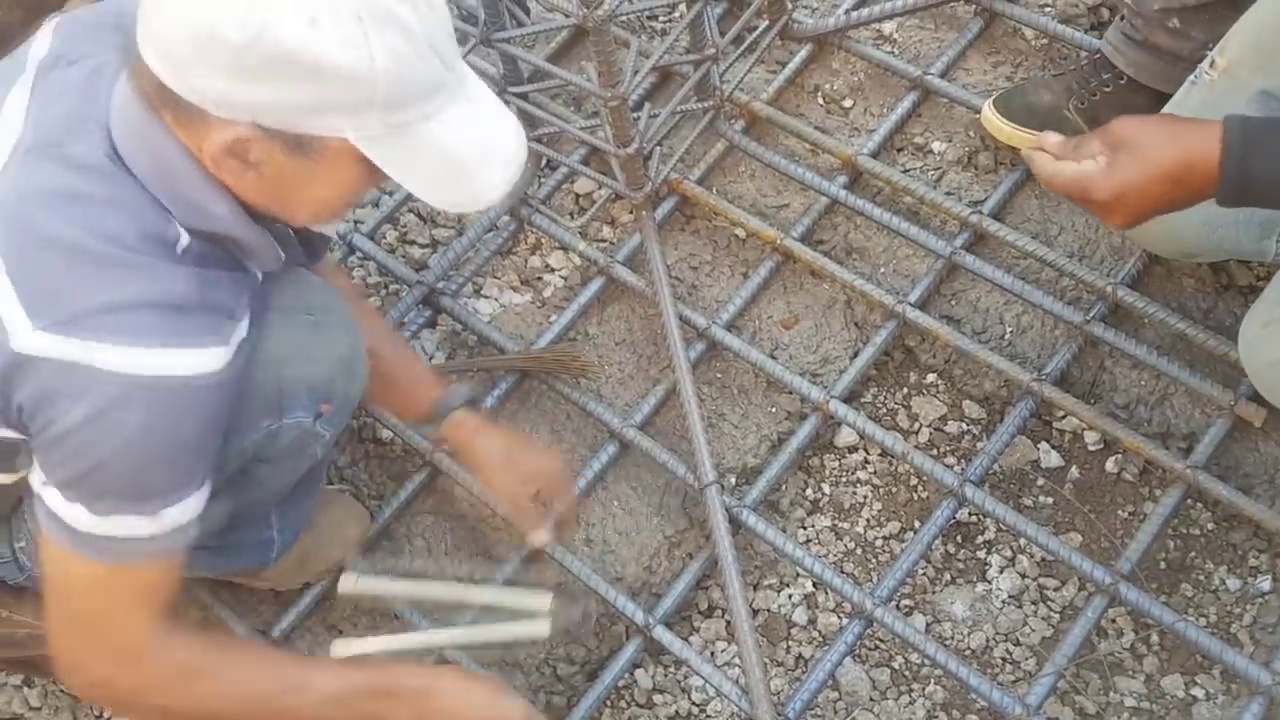helmet-off: (130, 0, 530, 258)
person: (0, 0, 557, 719), (936, 0, 1280, 366)
